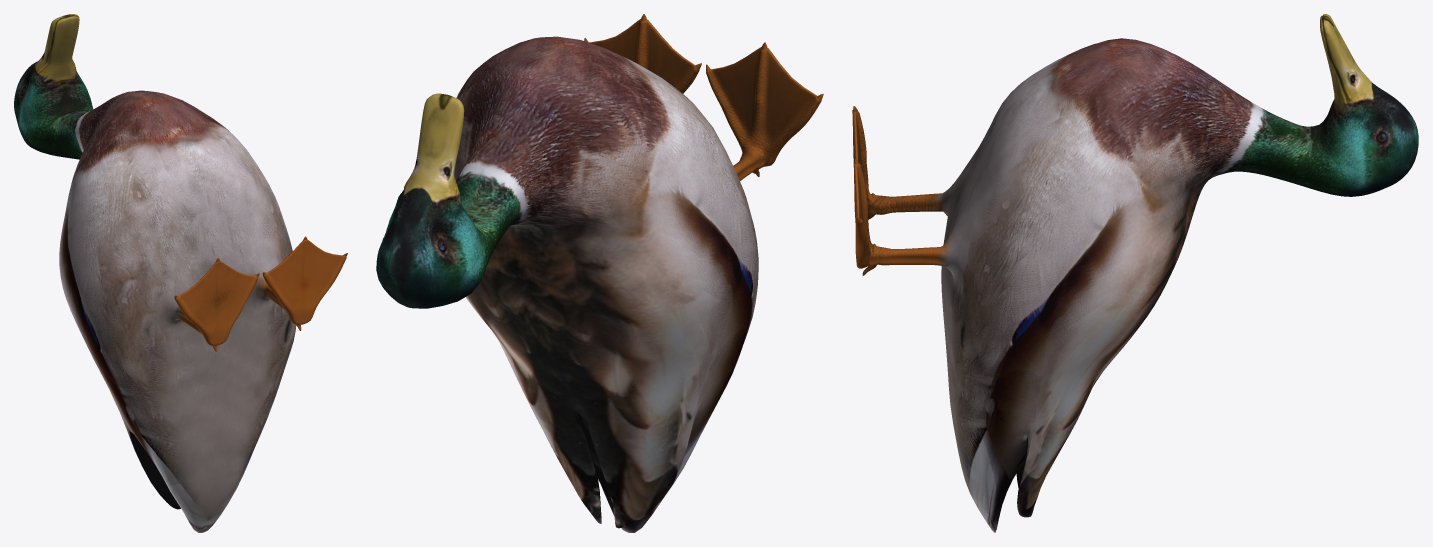
The model's file is duck.glb.
3 renders of one model, left to right at view 1: azimuth 30°, elevation 25°; view 2: azimuth 150°, elevation 25°; view 3: azimuth 270°, elevation 25°, orthographic. The views are drawn at different scales.
Visible parts, largest first — view 1: 12248_Bird_v1_L2; view 2: 12248_Bird_v1_L2; view 3: 12248_Bird_v1_L2.
Boxes of the visible parts, x1,y1,x2,y2 form: 12248_Bird_v1_L2: (14,14,347,532); 12248_Bird_v1_L2: (376,14,823,532); 12248_Bird_v1_L2: (852,14,1418,532).
Size of the model in its own units: 28.45 by 56.51 by 56.53.
Materials: 1 (1 with a texture image).
